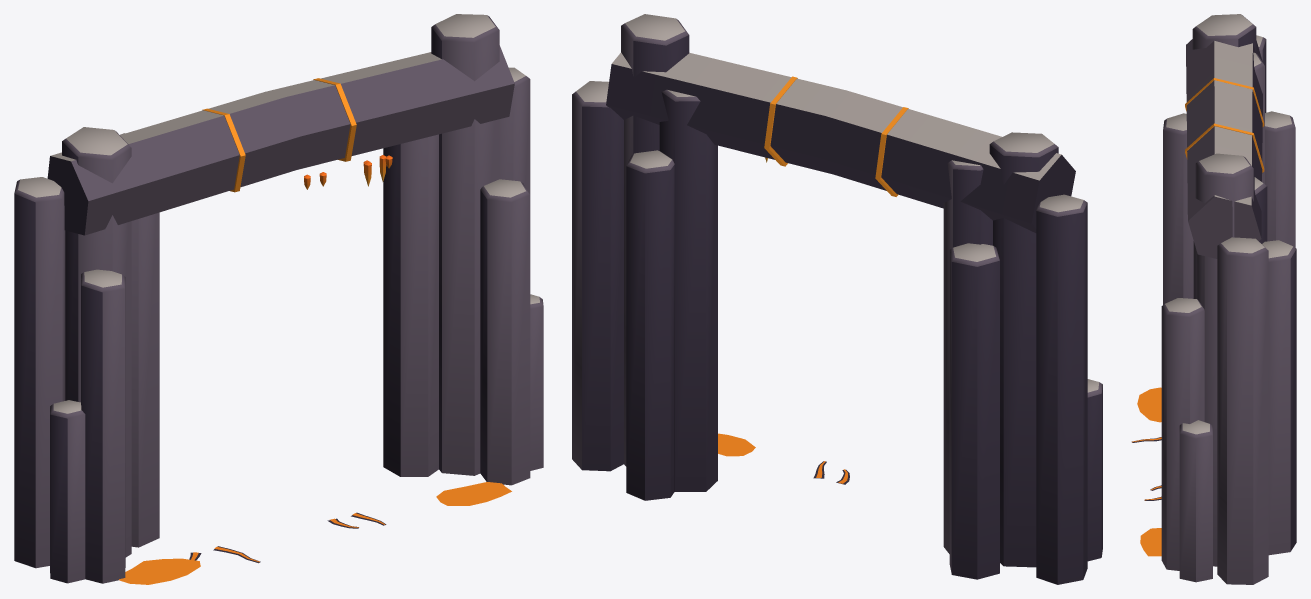
Rendered from VolcanoGate.fbx.
The picture shows the model from 3 angles, left to right: view 1: azimuth 30°, elevation 25°; view 2: azimuth 150°, elevation 25°; view 3: azimuth 270°, elevation 25°; orthographic projection. The views are drawn at different scales.
Visible parts, largest first — view 1: VolcanoGate; view 2: VolcanoGate; view 3: VolcanoGate.
Part boxes in pixels (left/top/right/bottom): VolcanoGate: left=14, top=14, right=543, bottom=584; VolcanoGate: left=572, top=14, right=1102, bottom=584; VolcanoGate: left=1131, top=14, right=1296, bottom=584.
Bounding box in the file's own units: 10.21 × 8.42 × 3.22.
Materials: 2 (2 with a texture image).
